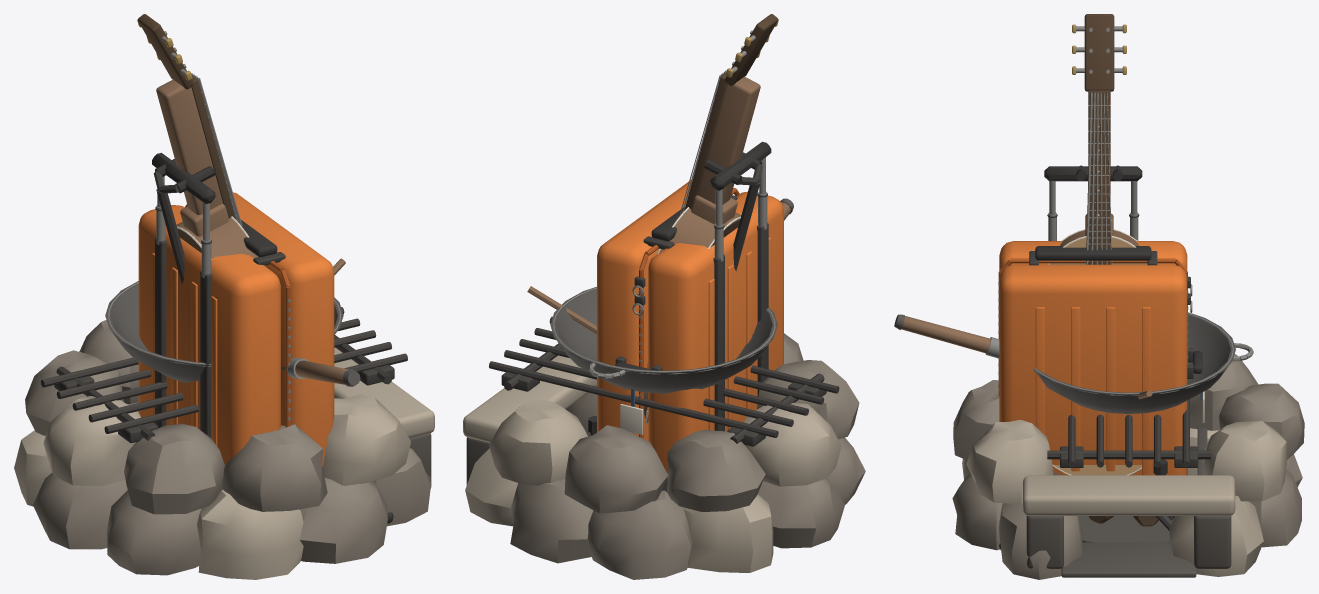
The model's file is camp-facilities-v1.glb.
3 views of the same model, side by side, from view 1: azimuth 30°, elevation 25°; view 2: azimuth 150°, elevation 25°; view 3: azimuth 270°, elevation 25° (orthographic). The views are drawn at different scales.
Visible parts, largest first — view 1: C14_stove, C15_case, C12_guitar, C14_wok, C15_handle, C12_stand, C12_strings; view 2: C14_stove, C15_case, C12_guitar, C14_wok, C15_handle, C12_stand; view 3: C14_stove, C15_case, C12_guitar, C14_wok, C12_strings, C15_handle, C12_stand.
Boxes of the visible parts, box(x1,y1,x2,y2) form: C14_stove: box(14, 307, 434, 579); C15_case: box(138, 192, 334, 489); C12_guitar: box(137, 14, 265, 266); C14_wok: box(105, 258, 360, 386); C15_handle: box(152, 152, 215, 278); C12_stand: box(153, 159, 393, 523); C12_strings: box(191, 73, 242, 226); C14_stove: box(463, 316, 865, 579); C15_case: box(597, 180, 783, 473); C12_guitar: box(644, 14, 778, 424); C14_wok: box(527, 198, 793, 393); C15_handle: box(710, 141, 771, 261); C12_stand: box(588, 152, 762, 435); C14_stove: box(952, 354, 1304, 579); C15_case: box(998, 241, 1204, 520); C12_guitar: box(1047, 14, 1147, 475); C14_wok: box(894, 312, 1253, 413); C12_strings: box(1086, 92, 1112, 264); C15_handle: box(1044, 166, 1142, 240); C12_stand: box(999, 165, 1172, 550).
Size of the model in its own units: 0.8527 by 1.24 by 1.01.
